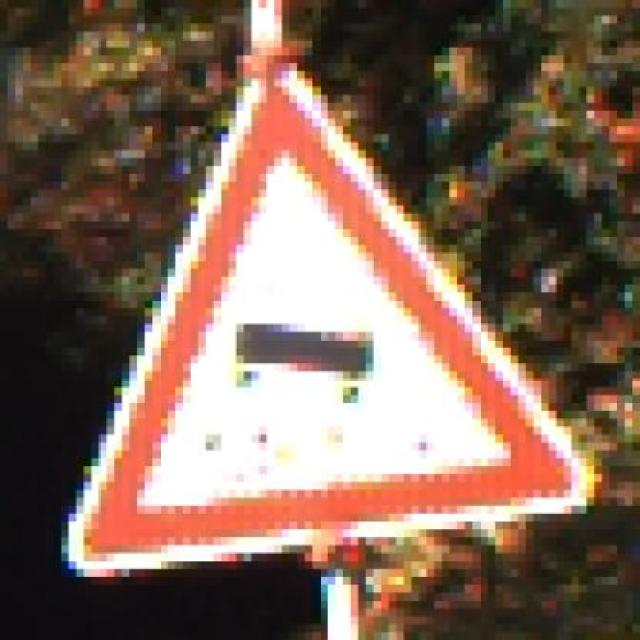Slippery Road Ahead: (53, 71, 618, 577)
